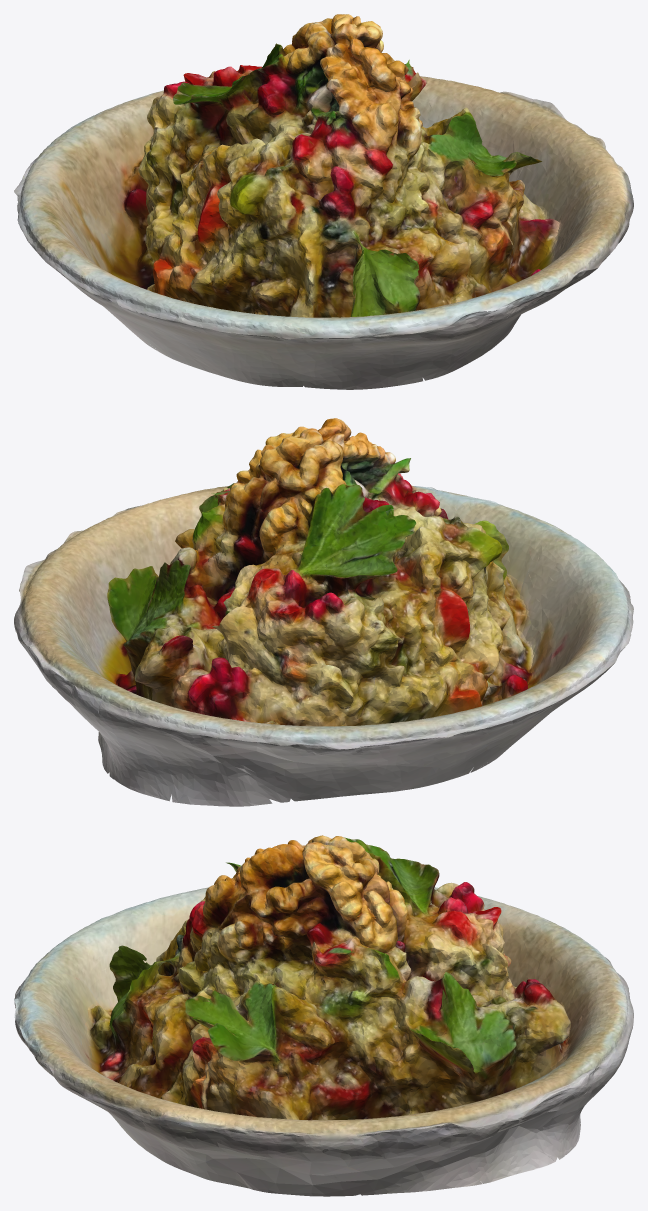
Rendered from baba-ganoush.glb.
The picture shows the model from 3 angles, top to bottom: view 1: azimuth 30°, elevation 25°; view 2: azimuth 150°, elevation 25°; view 3: azimuth 270°, elevation 25°; orthographic projection.
Size of the model in its own units: 0.1603 by 0.0793 by 0.1602.
1 material, 1 textured.
